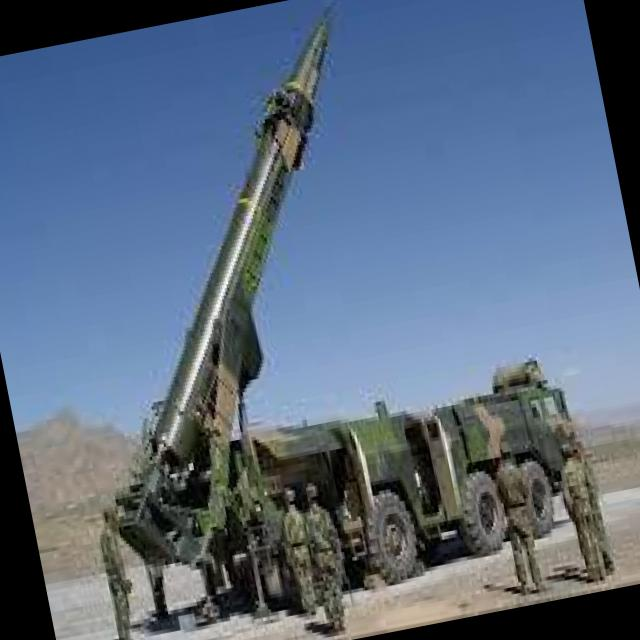rocket: (75, 27, 403, 483)
